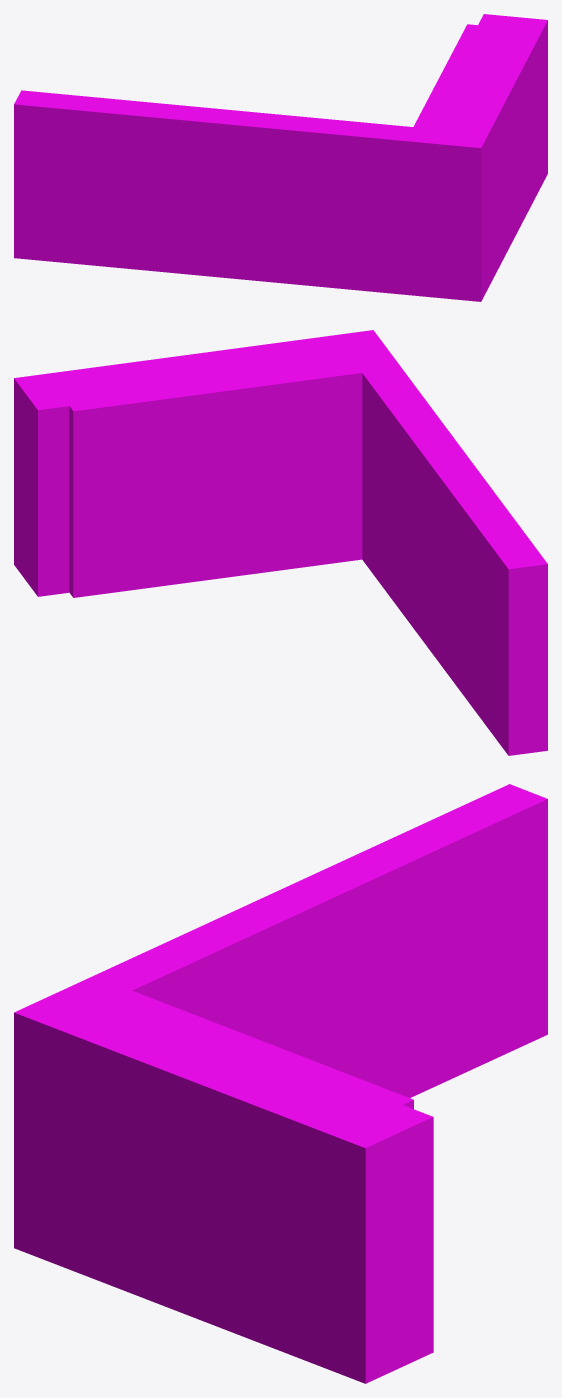
The model's file is DEHB01ALs0000j8h.gltf.
The picture shows the model from 3 angles, top to bottom: view 1: azimuth 30°, elevation 25°; view 2: azimuth 150°, elevation 25°; view 3: azimuth 270°, elevation 25°; orthographic projection. The views are drawn at different scales.
Parts seen in each view (by area): view 1: Z_UP; view 2: Z_UP; view 3: Z_UP.
Part boxes in pixels (x1=…): Z_UP: x1=14, y1=14, x2=547, y2=301; Z_UP: x1=14, y1=330, x2=547, y2=755; Z_UP: x1=14, y1=784, x2=547, y2=1383.
Bounding box in the file's own units: 12.4 × 3.74 × 7.68.
